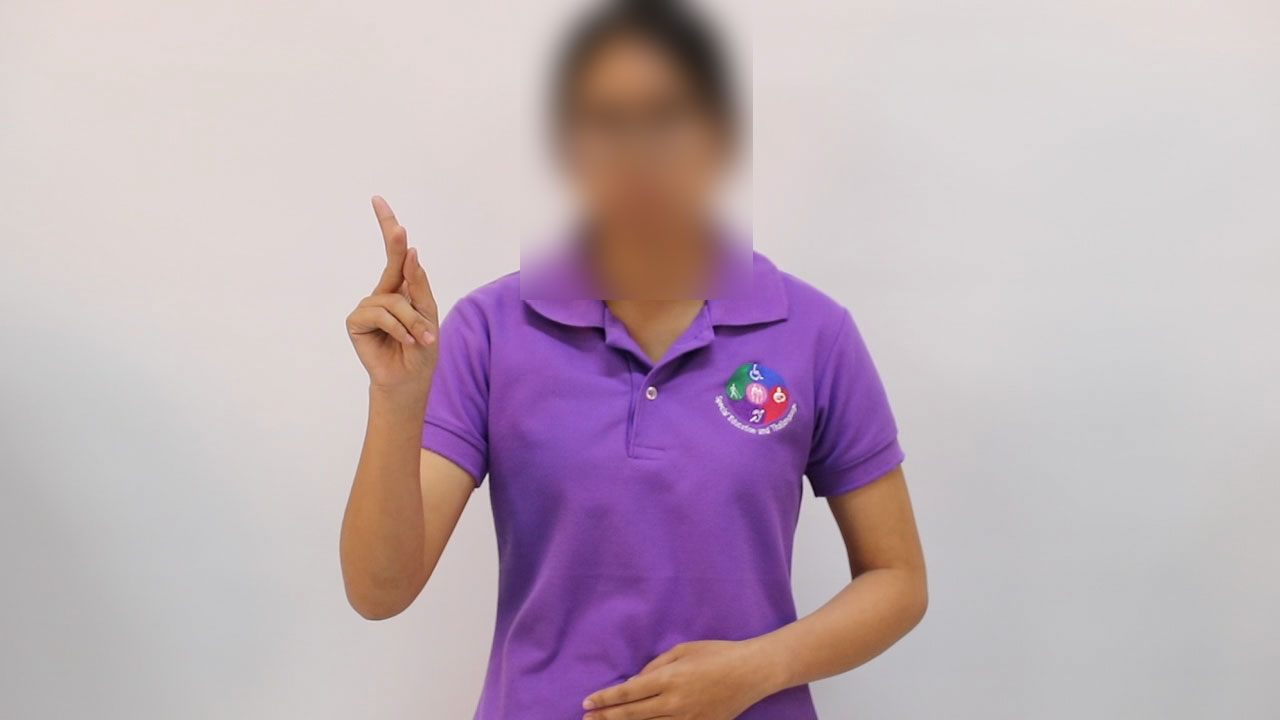ko: (328, 187, 460, 389)
